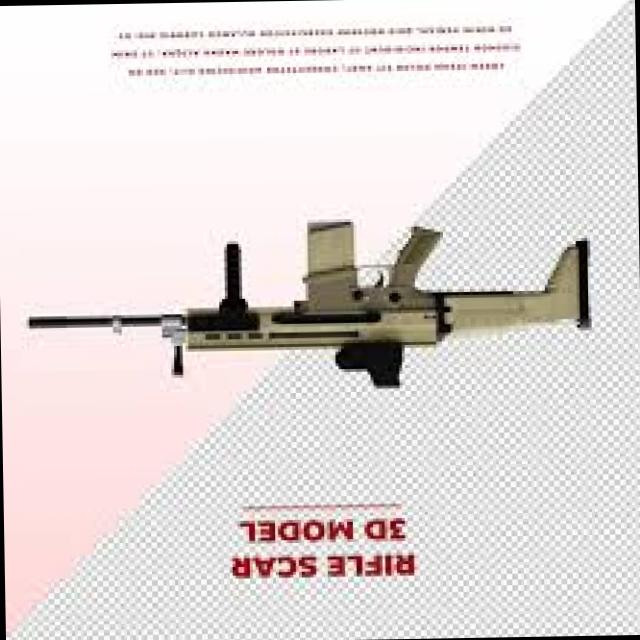Gun: (14, 184, 596, 406)
